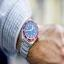watch: (18, 17, 42, 56)
